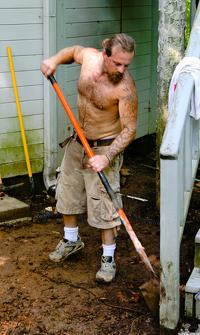person: (41, 32, 138, 284)
